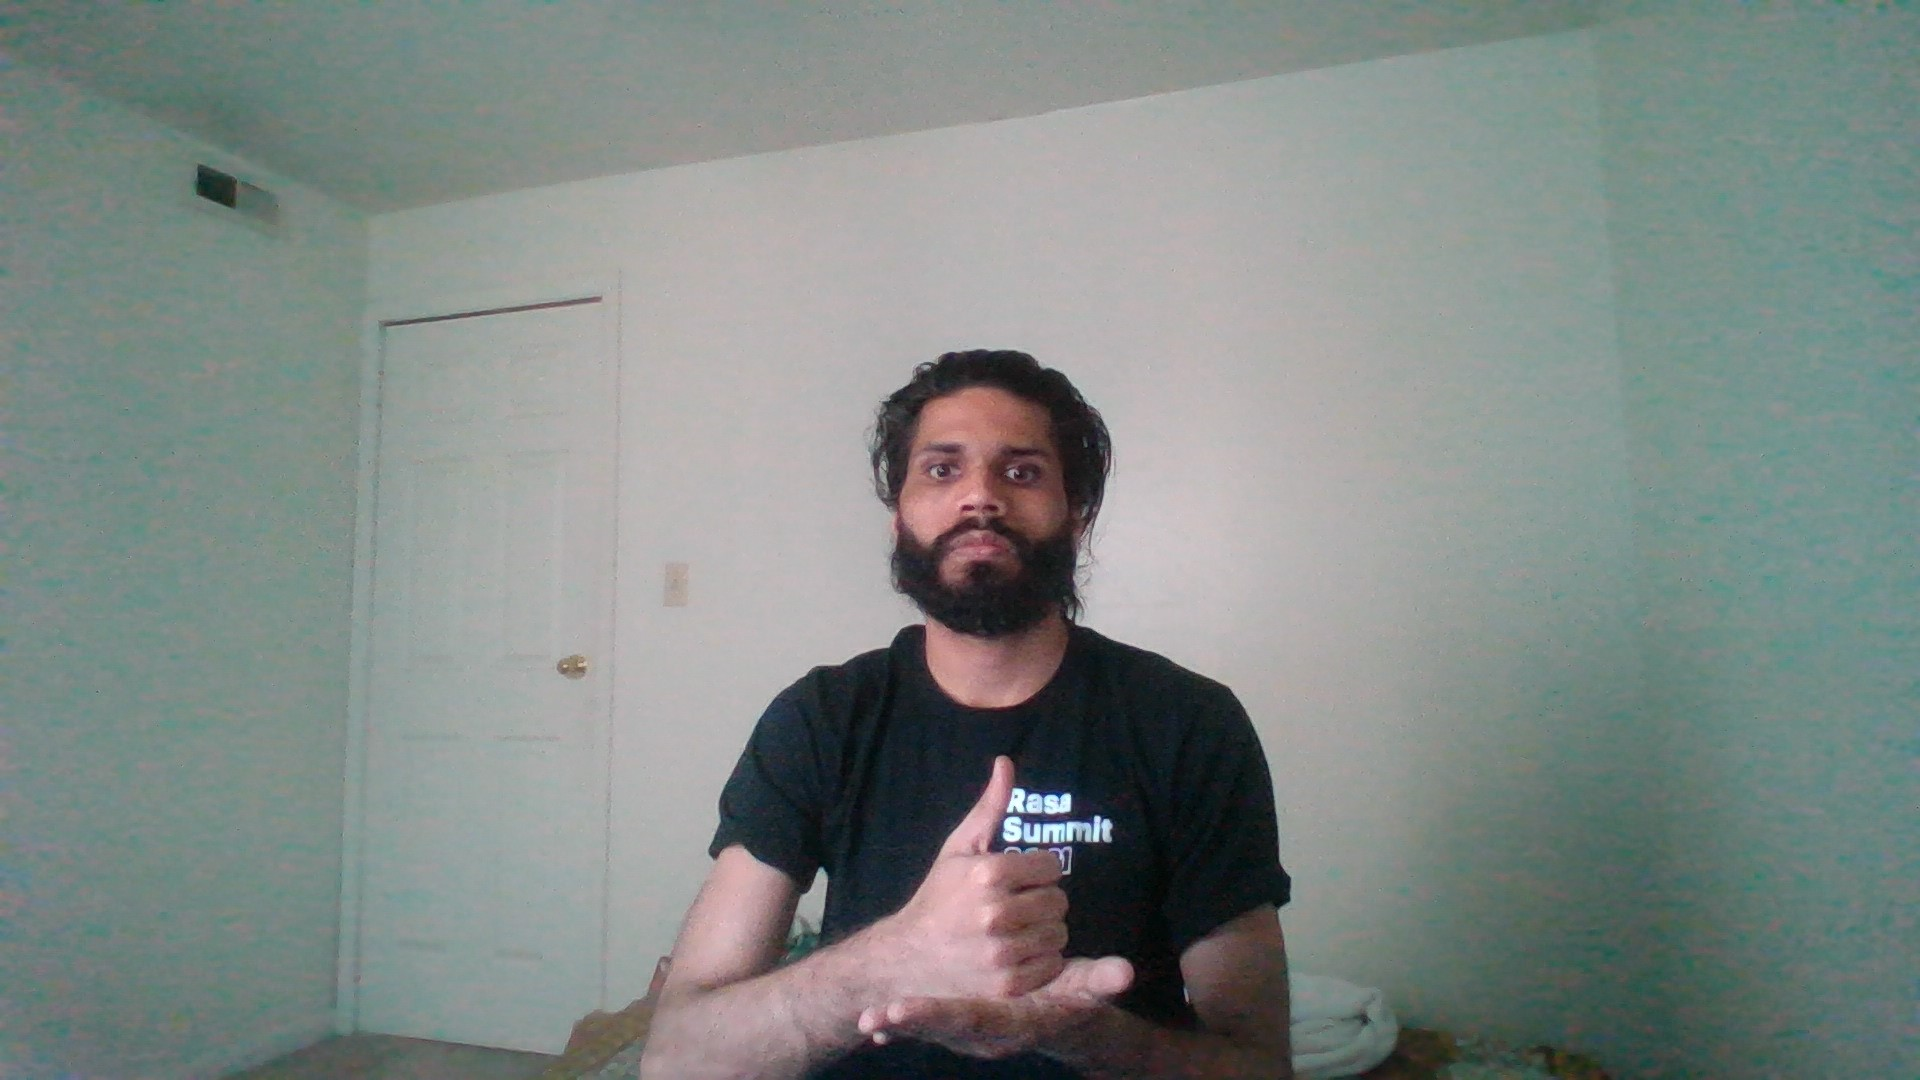Help: (822, 727, 1178, 1073)
